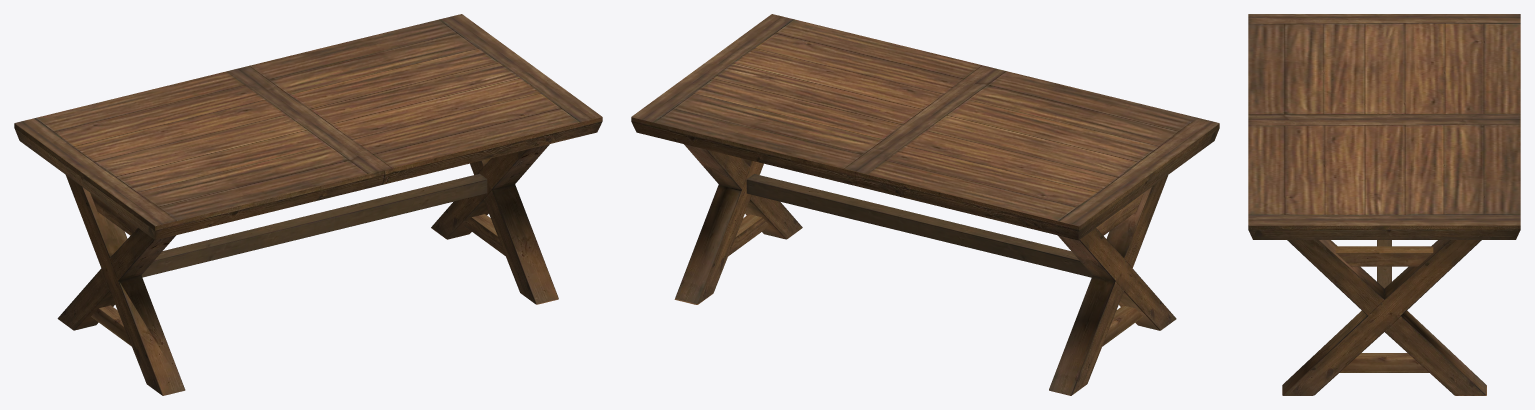
Rendered from dining_table_abo_B07B7BGXN9.glb.
3 views of the same model, side by side, from view 1: azimuth 30°, elevation 25°; view 2: azimuth 150°, elevation 25°; view 3: azimuth 270°, elevation 25° (orthographic). The views are drawn at different scales.
Parts seen in each view (by area): view 1: RootNode; view 2: RootNode; view 3: RootNode.
Part boxes in pixels (x1,y1,x2,y2): RootNode: [14, 14, 602, 395]; RootNode: [631, 14, 1219, 395]; RootNode: [1248, 14, 1520, 395].
Size of the model in its own units: 1.97 by 0.7932 by 1.07.
Materials: 1 (1 with a texture image).
